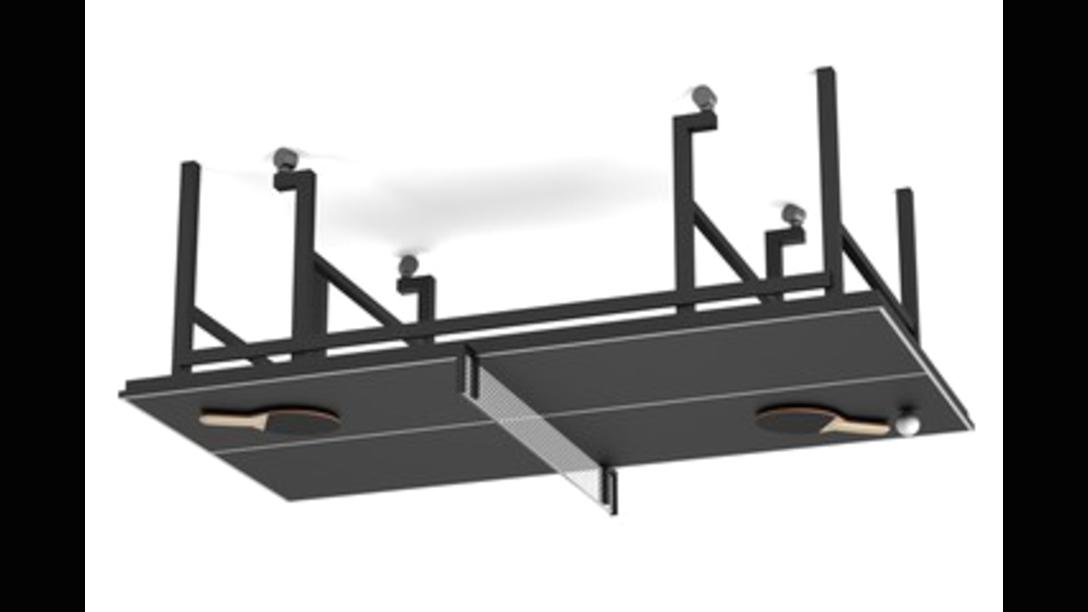Table-Tennis-Ball: (896, 414, 920, 436)
